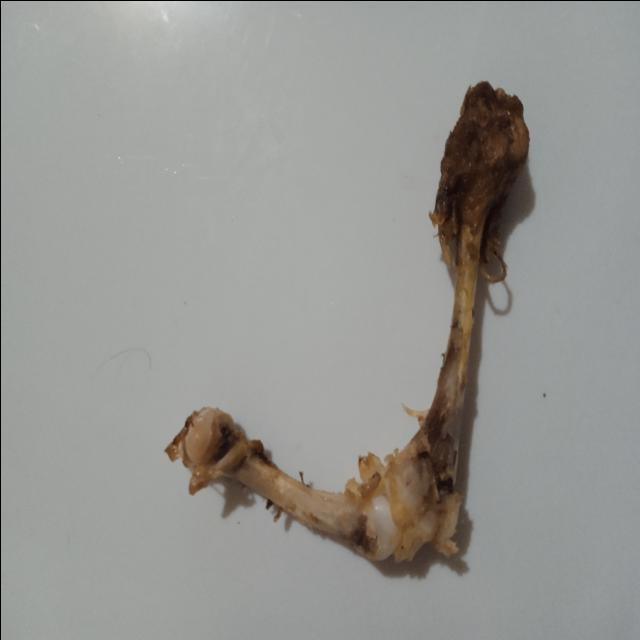bone: (148, 49, 556, 596)
